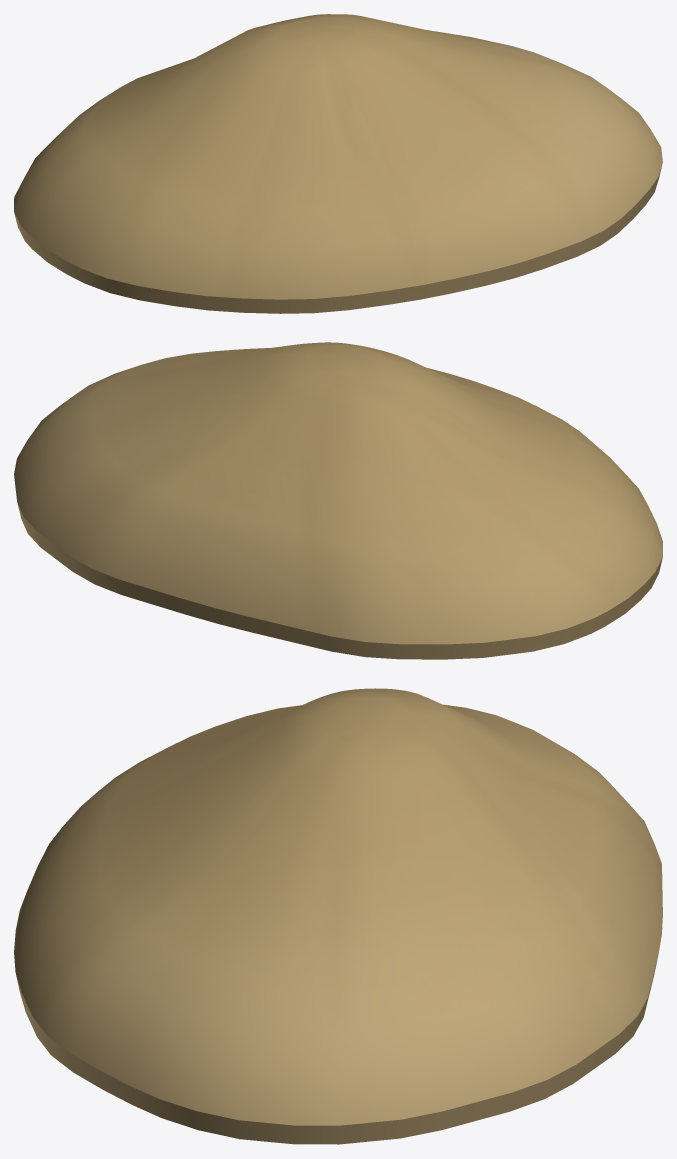
The model's file is Coral 1.fbx.
3 views of the same model, one above another, from view 1: azimuth 30°, elevation 25°; view 2: azimuth 150°, elevation 25°; view 3: azimuth 270°, elevation 25° (orthographic). The views are drawn at different scales.
Parts seen in each view (by area): view 1: Coral 1; view 2: Coral 1; view 3: Coral 1.
Part boxes in pixels (left/top/right/bottom): Coral 1: left=14, top=14, right=662, bottom=313; Coral 1: left=14, top=342, right=662, bottom=659; Coral 1: left=14, top=688, right=662, bottom=1144.
Size of the model in its own units: 121 by 36.54 by 88.33.
